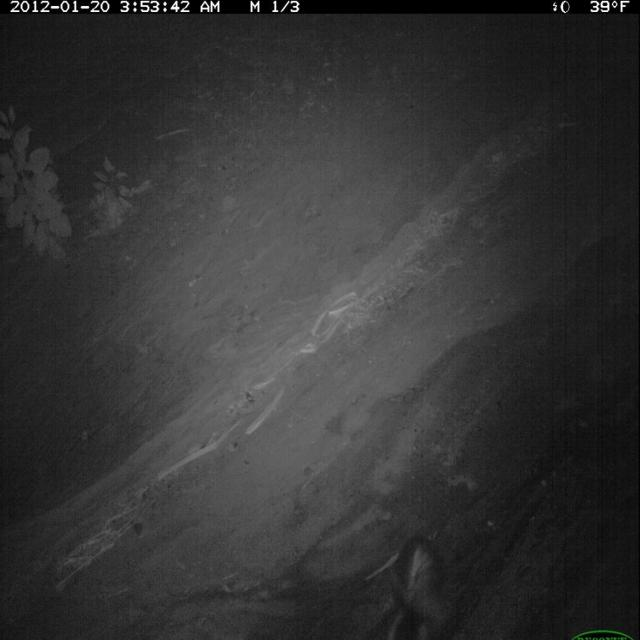skunk: (361, 529, 453, 640)
